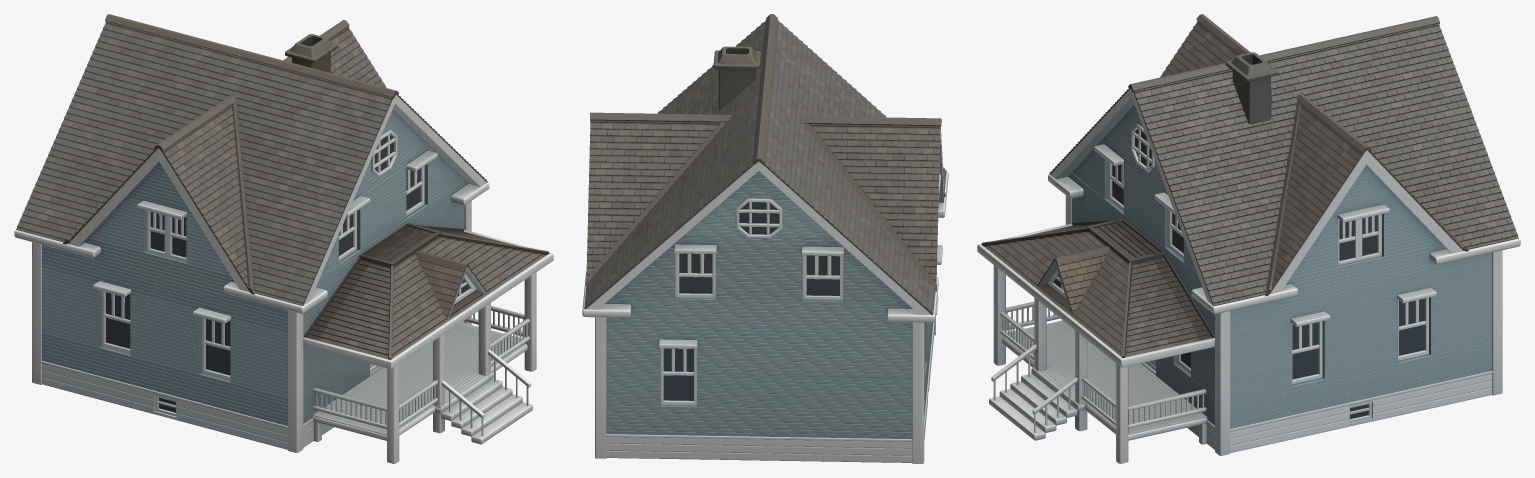
File: home.glb
3 views of the same model, side by side, from view 1: azimuth 30°, elevation 25°; view 2: azimuth 150°, elevation 25°; view 3: azimuth 270°, elevation 25° (orthographic).
Parts seen in each view (by area): view 1: node_id115; view 2: node_id115; view 3: node_id115.
Boxes of the visible parts, x1,y1,x2,y2 form: node_id115: (14,14,553,463); node_id115: (582,14,948,463); node_id115: (977,14,1520,463).
Size of the model in its own units: 0.461 by 0.3312 by 0.5021.
1 material, 1 textured.
